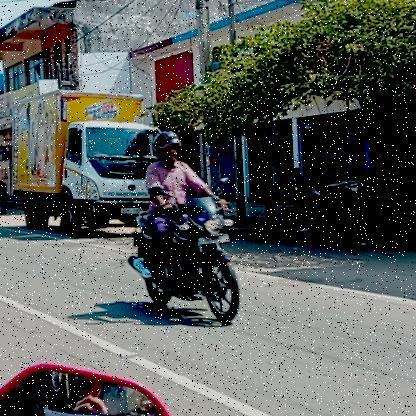motorcycle: (126, 195, 242, 327)
